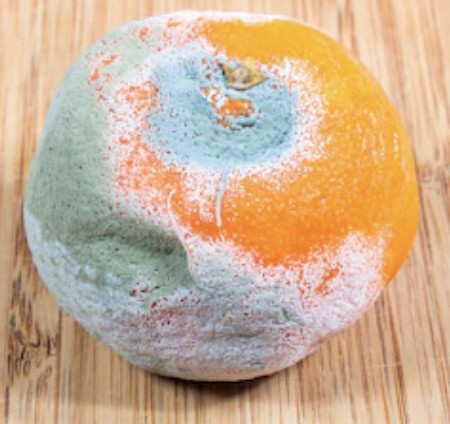rotten_orange: (30, 11, 420, 379)
